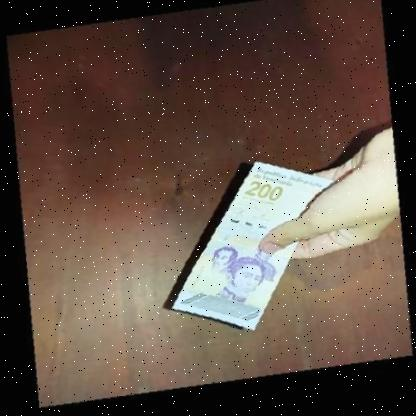vef_front: (169, 157, 335, 341)
